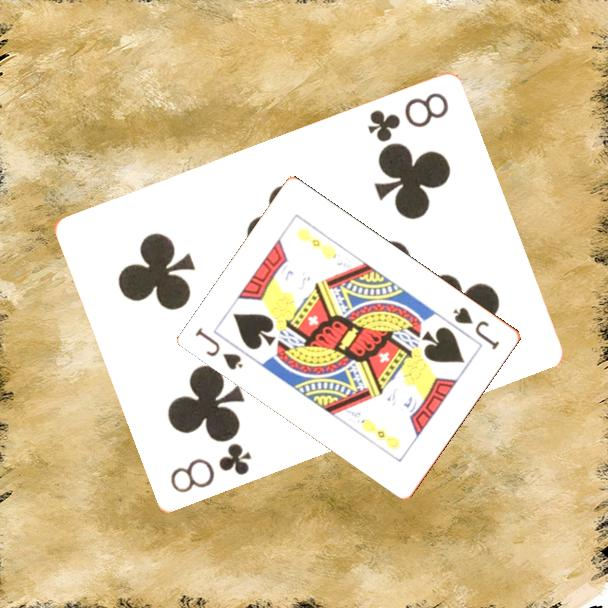c08: (363, 89, 452, 146), (166, 440, 254, 497)
s11: (192, 324, 247, 373), (450, 304, 503, 353)
